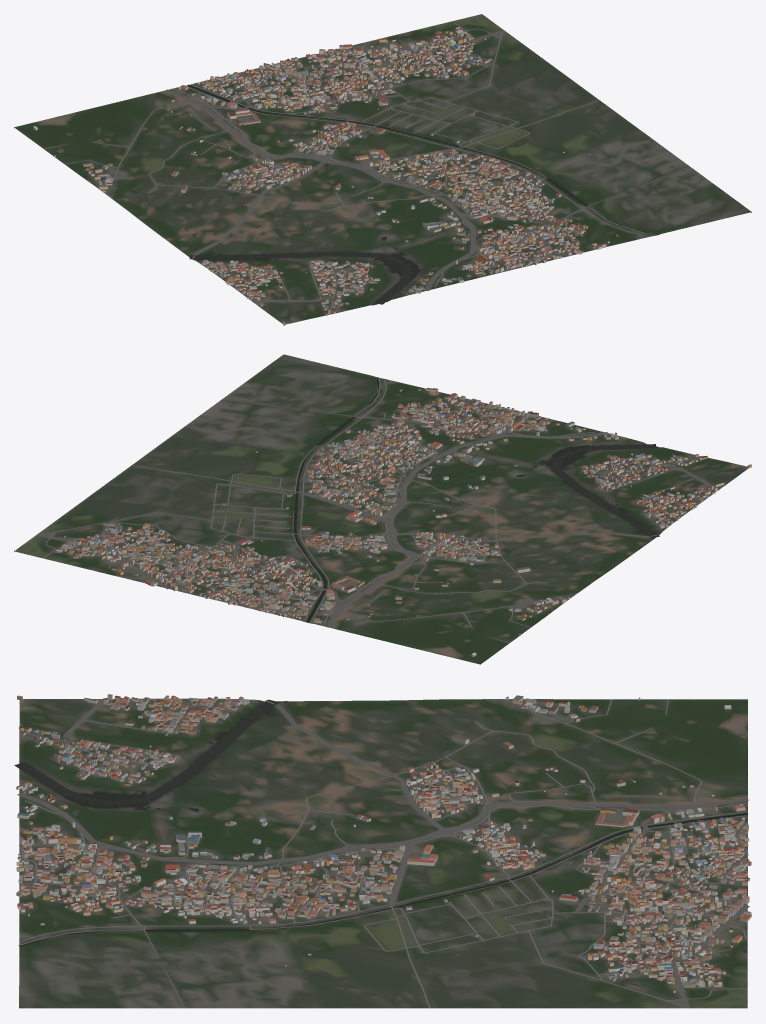
The picture shows the model from 3 angles, top to bottom: view 1: azimuth 30°, elevation 25°; view 2: azimuth 150°, elevation 25°; view 3: azimuth 270°, elevation 25°; orthographic projection. The views are drawn at different scales.
Parts seen in each view (by area): view 1: ground, buildings, roads, water; view 2: ground, buildings, roads, water; view 3: ground, buildings, roads, water.
Part boxes in pixels (bbox=[...]): ground: bbox=[14, 14, 751, 324]; buildings: bbox=[33, 27, 618, 325]; roads: bbox=[43, 21, 690, 323]; water: bbox=[187, 84, 657, 304]; ground: bbox=[14, 354, 748, 664]; buildings: bbox=[55, 388, 751, 656]; roads: bbox=[36, 377, 748, 642]; water: bbox=[293, 377, 659, 622]; ground: bbox=[19, 698, 747, 1008]; buildings: bbox=[16, 694, 751, 992]; roads: bbox=[17, 698, 749, 1008]; water: bbox=[14, 699, 747, 946].
Bounding box in the file's own units: 1409 × 19.5 × 1420.
